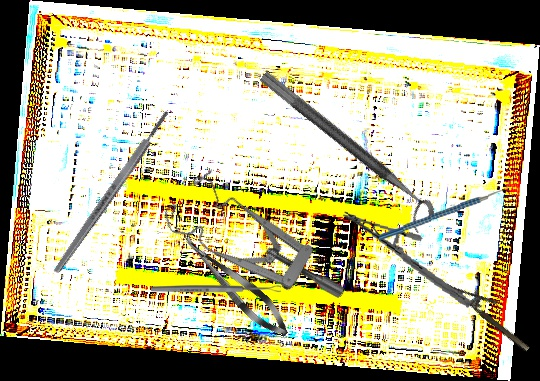Chopper: (376, 176, 515, 242)
Fixation Ring: (247, 70, 440, 234)
Micro Scissor: (175, 225, 296, 345)
Needle Holder: (333, 209, 481, 309), (440, 267, 539, 353)
Scalpel Handle: (50, 108, 173, 276)
Speculum: (154, 146, 348, 354)
Surgical Spoon: (151, 285, 281, 293)
